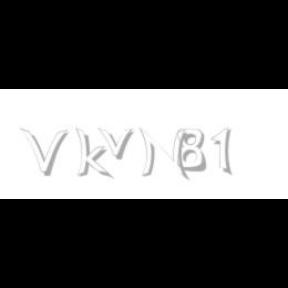1: (211, 128, 233, 176)
8: (178, 128, 206, 172)
N: (138, 128, 188, 180)
V: (20, 128, 68, 176)
k: (75, 128, 113, 180)
v: (97, 128, 137, 160)
